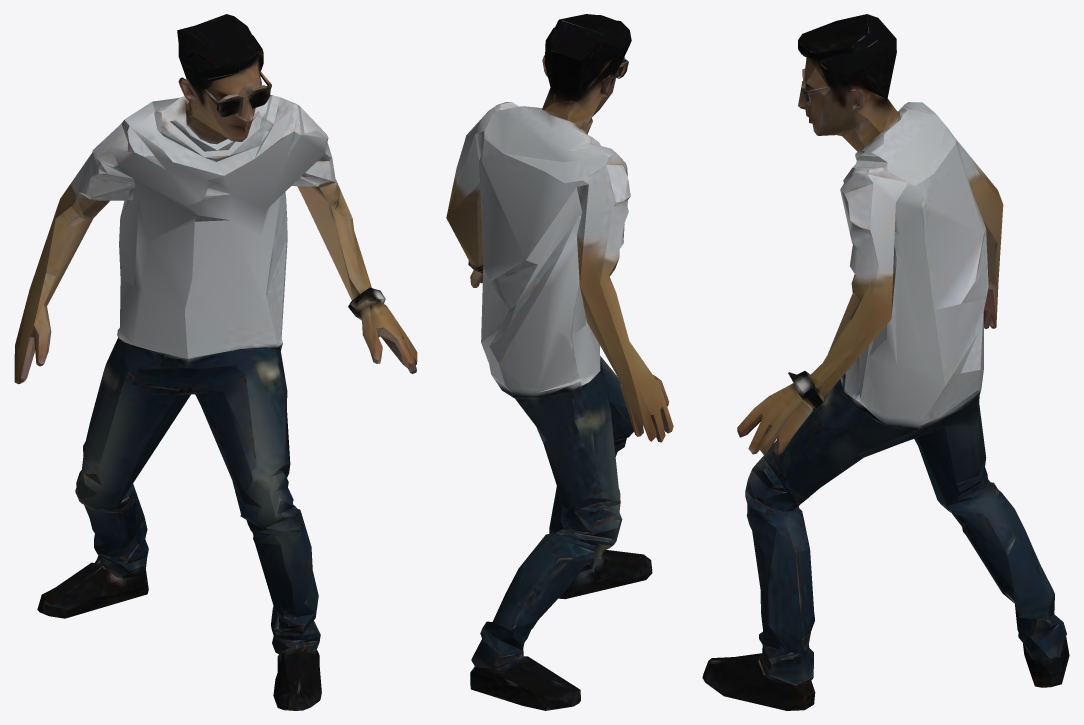
Rendered from provokator_idle_lod2.glb.
3 renders of one model, left to right at view 1: azimuth 30°, elevation 25°; view 2: azimuth 150°, elevation 25°; view 3: azimuth 270°, elevation 25°, orthographic. The views are drawn at different scales.
Parts seen in each view (by area): view 1: tripo_node_f0bba47e; view 2: tripo_node_f0bba47e; view 3: tripo_node_f0bba47e.
Part boxes in pixels (x1,y1,x2,y2): tripo_node_f0bba47e: [14, 14, 417, 710]; tripo_node_f0bba47e: [446, 14, 673, 710]; tripo_node_f0bba47e: [702, 14, 1069, 710].
Bounding box in the file's own units: 45.45 × 91.78 × 46.68.
1 material, 1 textured.
